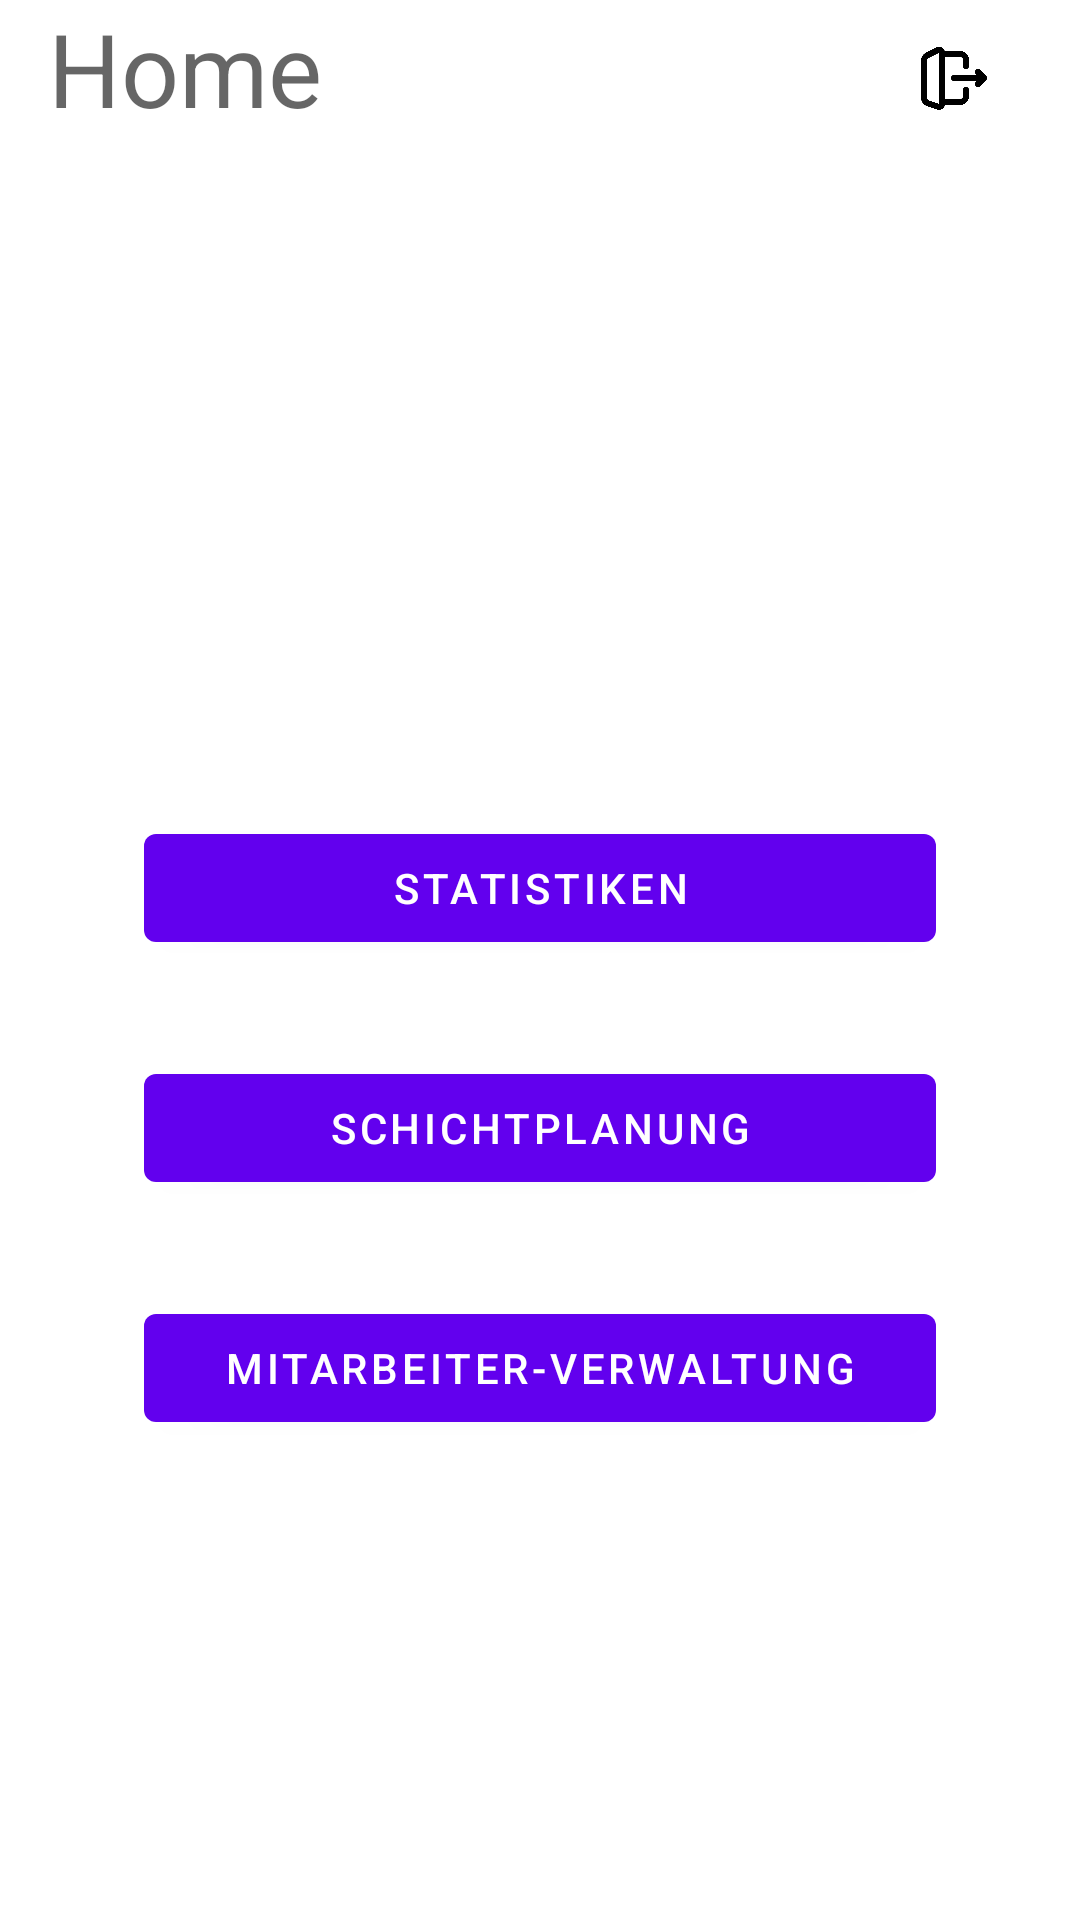

Where icons sit on this 1080px x 1920px app screen, as (x1, y1, x2, y2):
sign out: (921, 47, 987, 110)
